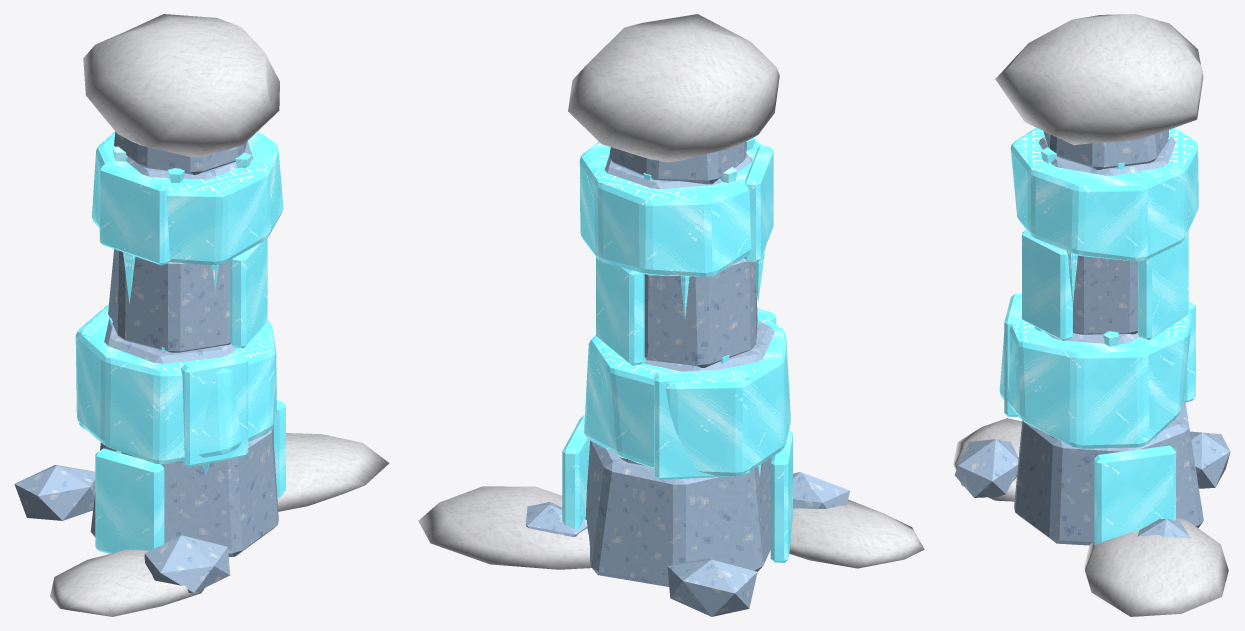
File: glacier_pillar.glb
The picture shows the model from 3 angles, left to right: view 1: azimuth 30°, elevation 25°; view 2: azimuth 150°, elevation 25°; view 3: azimuth 270°, elevation 25°; orthographic projection. The views are drawn at different scales.
Visible parts, largest first — view 1: Snow, Pillar, IceCollars, IceSheets, Icicles; view 2: Pillar, Snow, IceCollars, IceSheets, Icicles; view 3: IceCollars, Snow, Pillar, IceSheets, Icicles.
Boxes of the visible parts, left/top/right/bottom form: Snow: left=50, top=14, right=389, bottom=616; Pillar: left=14, top=132, right=278, bottom=593; IceCollars: left=75, top=131, right=283, bottom=464; IceSheets: left=79, top=162, right=285, bottom=553; Icicles: left=110, top=146, right=251, bottom=474; Pillar: left=526, top=142, right=849, bottom=616; Snow: left=418, top=14, right=924, bottom=569; IceCollars: left=579, top=140, right=790, bottom=476; IceSheets: left=562, top=146, right=792, bottom=562; Icicles: left=598, top=137, right=766, bottom=476; IceCollars: left=999, top=127, right=1198, bottom=448; Snow: left=953, top=14, right=1228, bottom=616; Pillar: left=954, top=130, right=1230, bottom=545; IceSheets: left=1004, top=230, right=1195, bottom=545; Icicles: left=1035, top=135, right=1170, bottom=439.
Bounding box in the file's own units: 5.97 × 7.12 × 3.68.
Materials: 3 (3 with a texture image).
